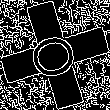O_E: (24, 27, 86, 83)
